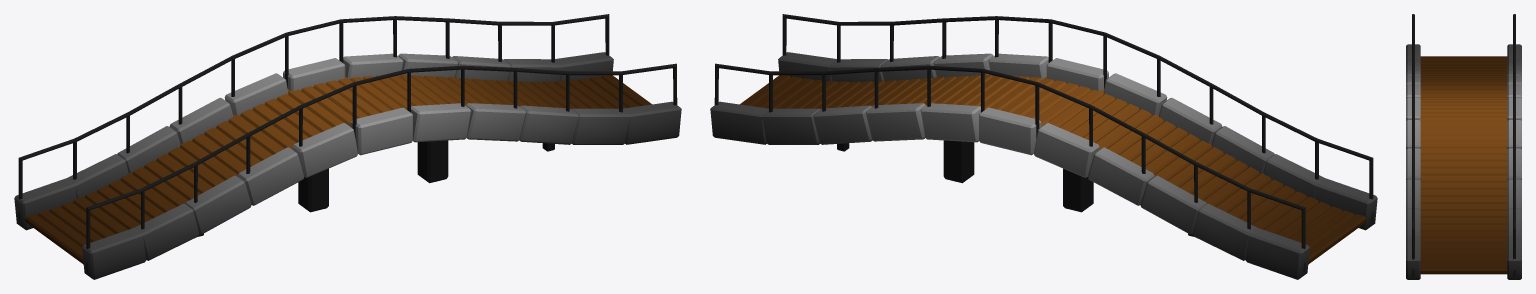
Rendered from Learn01_Bridge.obj.
3 views of the same model, side by side, from view 1: azimuth 30°, elevation 25°; view 2: azimuth 150°, elevation 25°; view 3: azimuth 270°, elevation 25° (orthographic). The views are drawn at different scales.
Size of the model in its own units: 10.09 by 2.13 by 2.29.
